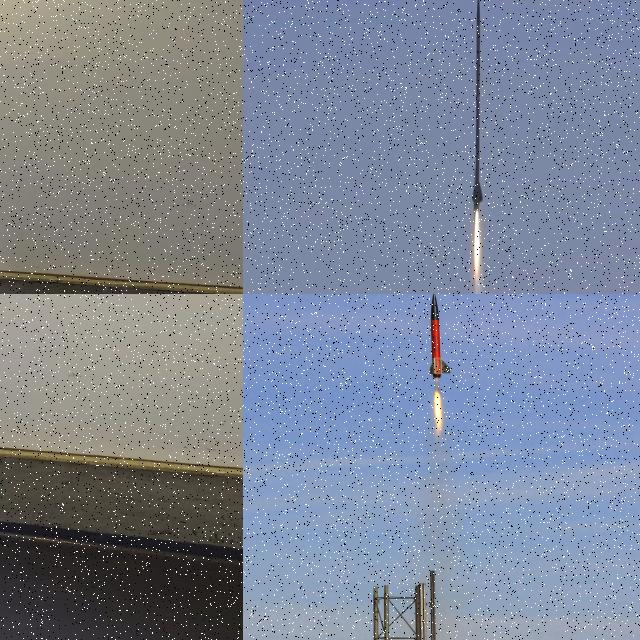Rocket: (471, 0, 484, 207), (428, 294, 451, 379)
